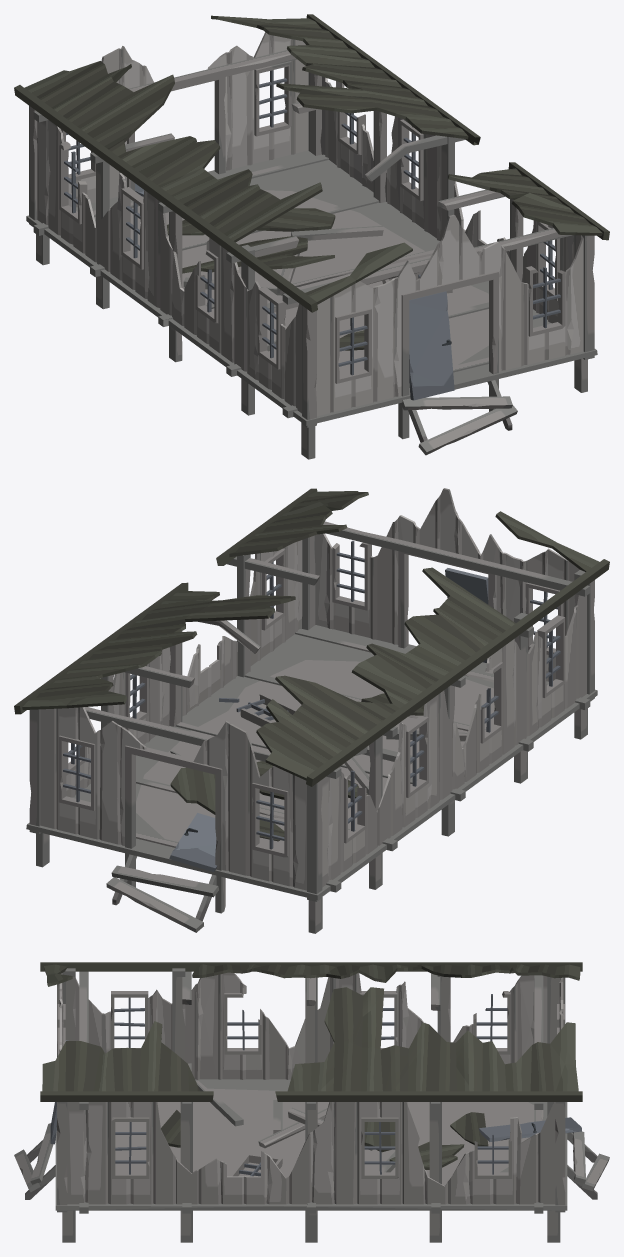
Rendered from SM_Bld_Barracks_Destroyed_01.fbx.
3 renders of one model, top to bottom at view 1: azimuth 30°, elevation 25°; view 2: azimuth 150°, elevation 25°; view 3: azimuth 270°, elevation 25°, orthographic. The views are drawn at different scales.
Visible parts, largest first — view 1: SM_Bld_Barracks_Destroyed_01; view 2: SM_Bld_Barracks_Destroyed_01; view 3: SM_Bld_Barracks_Destroyed_01.
Boxes of the visible parts, box(x1,y1,x2,y2) form: SM_Bld_Barracks_Destroyed_01: box(14, 14, 609, 459); SM_Bld_Barracks_Destroyed_01: box(14, 488, 609, 933); SM_Bld_Barracks_Destroyed_01: box(14, 962, 609, 1242).
Bounding box in the file's own units: 743 × 508 × 1390.
